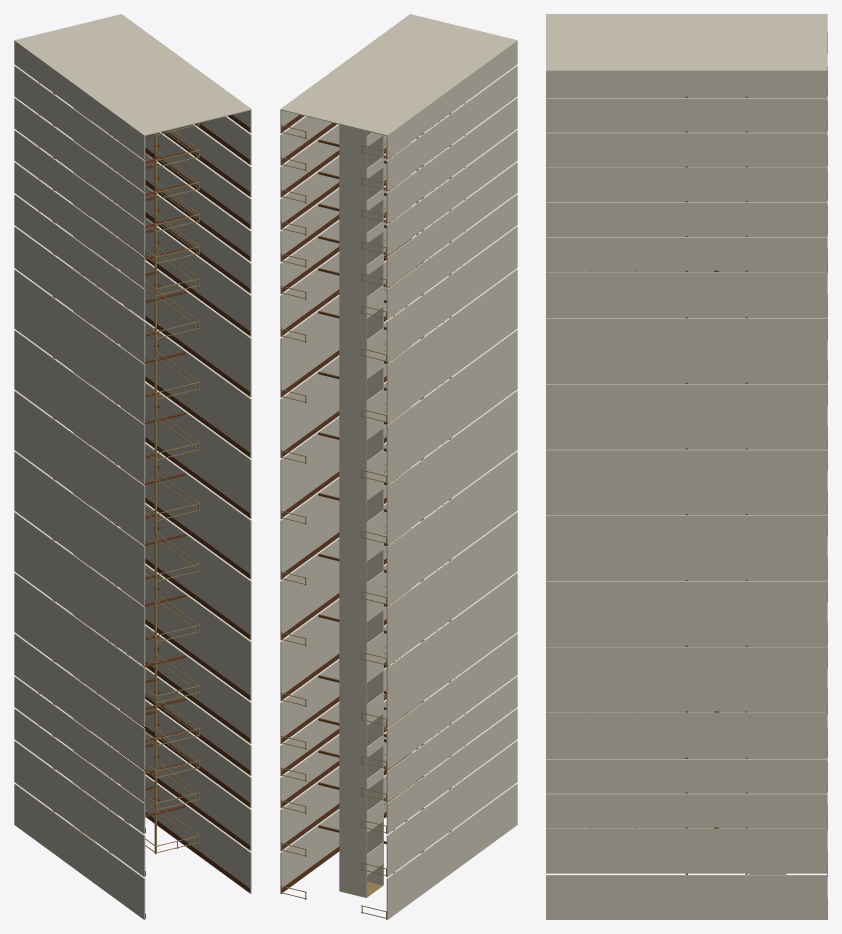
Rendered from AST-CIR-005.glb.
3 views of the same model, side by side, from view 1: azimuth 30°, elevation 25°; view 2: azimuth 150°, elevation 25°; view 3: azimuth 270°, elevation 25° (orthographic). The views are drawn at different scales.
Visible parts, largest first — view 1: CORE_TopCover, CORE_OuterWall_07_-1, CORE_OuterWall_06_-1, CORE_OuterWall_08_-1, CORE_OuterWall_09_-1, CORE_OuterWall_10_-1, CORE_OuterWall_05_-1, CORE_OuterWall_09_1, CORE_OuterWall_07_1, CORE_OuterWall_08_1, CORE_OuterWall_05_1, CORE_OuterWall_06_1 (+40 smaller); view 2: CORE_ShaftNorth, CORE_TopCover, CORE_OuterWall_06_-1, CORE_OuterWall_07_-1, CORE_OuterWall_08_-1, CORE_OuterWall_09_-1, CORE_OuterWall_10_-1, CORE_OuterWall_05_-1, CORE_ShaftSouth, CORE_OuterWall_00_-1, CORE_OuterWall_04_-1, CORE_OuterWall_11_-1 (+33 smaller); view 3: CORE_OuterWall_05_1, CORE_OuterWall_06_1, CORE_OuterWall_07_1, CORE_OuterWall_08_1, CORE_OuterWall_09_1, CORE_OuterWall_10_1, CORE_TopCover, CORE_OuterWall_01_1, CORE_OuterWall_04_1, CORE_OuterWall_00_1, CORE_OuterWall_11_1, CORE_OuterWall_02_1 (+9 smaller).
Part boxes in pixels (x1,y1,x2,y2): CORE_TopCover: (14,14,251,136); CORE_OuterWall_07_-1: (14,451,145,605); CORE_OuterWall_06_-1: (14,512,145,666); CORE_OuterWall_08_-1: (14,390,145,544); CORE_OuterWall_09_-1: (14,330,145,484); CORE_OuterWall_10_-1: (14,269,145,423); CORE_OuterWall_05_-1: (14,573,145,726); CORE_OuterWall_09_1: (121,304,251,458); CORE_OuterWall_07_1: (120,443,251,579); CORE_OuterWall_08_1: (120,382,251,518); CORE_OuterWall_05_1: (121,564,251,700); CORE_OuterWall_06_1: (120,503,251,640); CORE_ShaftNorth: (339,105,366,897); CORE_TopCover: (280,14,517,136); CORE_OuterWall_06_-1: (386,512,517,666); CORE_OuterWall_07_-1: (386,451,517,605); CORE_OuterWall_08_-1: (386,390,517,544); CORE_OuterWall_09_-1: (386,330,517,484); CORE_OuterWall_10_-1: (386,269,517,423); CORE_OuterWall_05_-1: (386,573,517,726); CORE_ShaftSouth: (357,92,383,885); CORE_OuterWall_00_-1: (386,783,517,919); CORE_OuterWall_04_-1: (386,633,517,769); CORE_OuterWall_11_-1: (386,226,517,362); CORE_OuterWall_05_1: (546,647,827,711); CORE_OuterWall_06_1: (546,581,827,645); CORE_OuterWall_07_1: (546,515,827,579); CORE_OuterWall_08_1: (546,449,827,513); CORE_OuterWall_09_1: (546,384,827,448); CORE_OuterWall_10_1: (546,318,827,382); CORE_TopCover: (546,14,827,71); CORE_OuterWall_01_1: (546,828,827,873); CORE_OuterWall_04_1: (546,712,827,757); CORE_OuterWall_00_1: (546,875,827,919); CORE_OuterWall_11_1: (546,272,827,316); CORE_OuterWall_02_1: (546,793,827,827).
Size of the model in its own units: 15.76 by 110 by 33.04.
4 materials, 3 textured.
